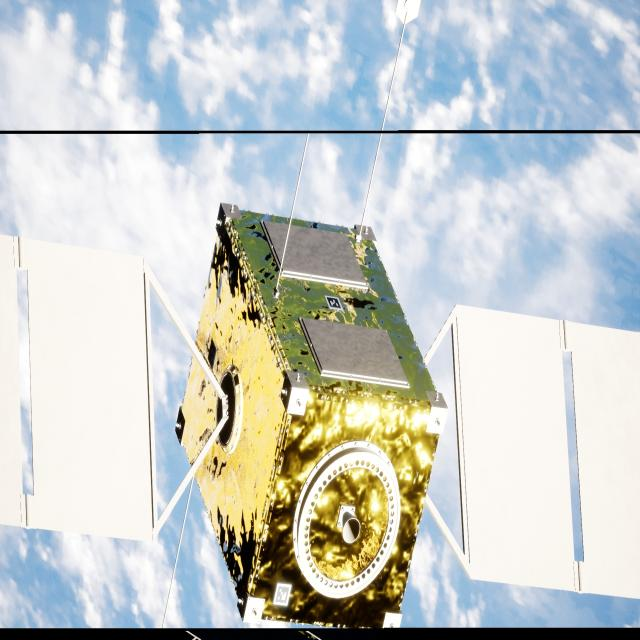satellite: (0, 206, 640, 626)
